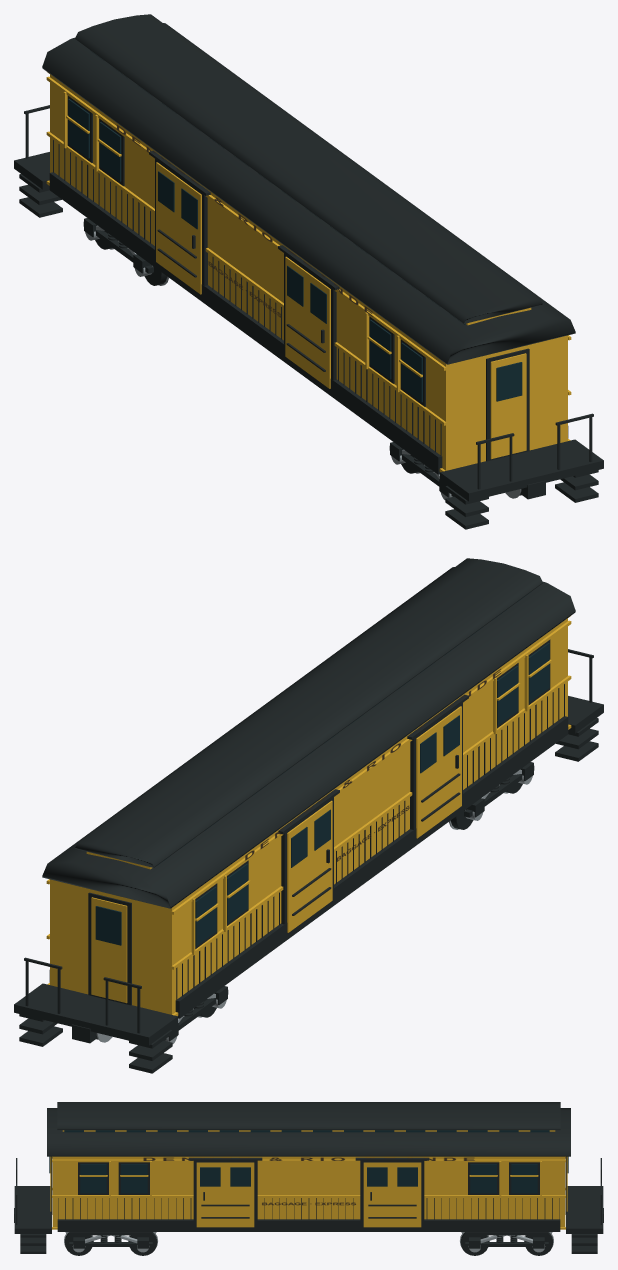
Rendered from drgw-wood-baggage-914.glb.
3 renders of one model, top to bottom at view 1: azimuth 30°, elevation 25°; view 2: azimuth 150°, elevation 25°; view 3: azimuth 270°, elevation 25°, orthographic. The views are drawn at different scales.
Visible parts, largest first — view 1: body, baggage-door (×2), bogie_1, bogie_0; view 2: body, baggage-door (×2), bogie_0, bogie_1; view 3: body, baggage-door (×2), bogie_0, bogie_1, wheel (×4), lettering_2, lettering_3.
Boxes of the visible parts, bbox=[...] form: body: bbox=[14, 14, 603, 529]; baggage-door (×2): bbox=[155, 159, 336, 380]; bogie_1: bbox=[83, 218, 168, 285]; bogie_0: bbox=[389, 442, 521, 499]; body: bbox=[14, 558, 603, 1073]; baggage-door (×2): bbox=[281, 703, 462, 924]; bogie_0: bbox=[449, 762, 534, 829]; bogie_1: bbox=[96, 986, 228, 1043]; body: bbox=[14, 1102, 603, 1253]; baggage-door (×2): bbox=[193, 1160, 424, 1220]; bogie_0: bbox=[64, 1232, 157, 1252]; bogie_1: bbox=[460, 1232, 553, 1252]; wheel (×4): bbox=[65, 1232, 552, 1255]; lettering_2: bbox=[143, 1157, 474, 1160]; lettering_3: bbox=[262, 1202, 355, 1205].
Bounding box in the file's own units: 2.63 × 3.87 × 15.2.
8 materials, 4 textured.
